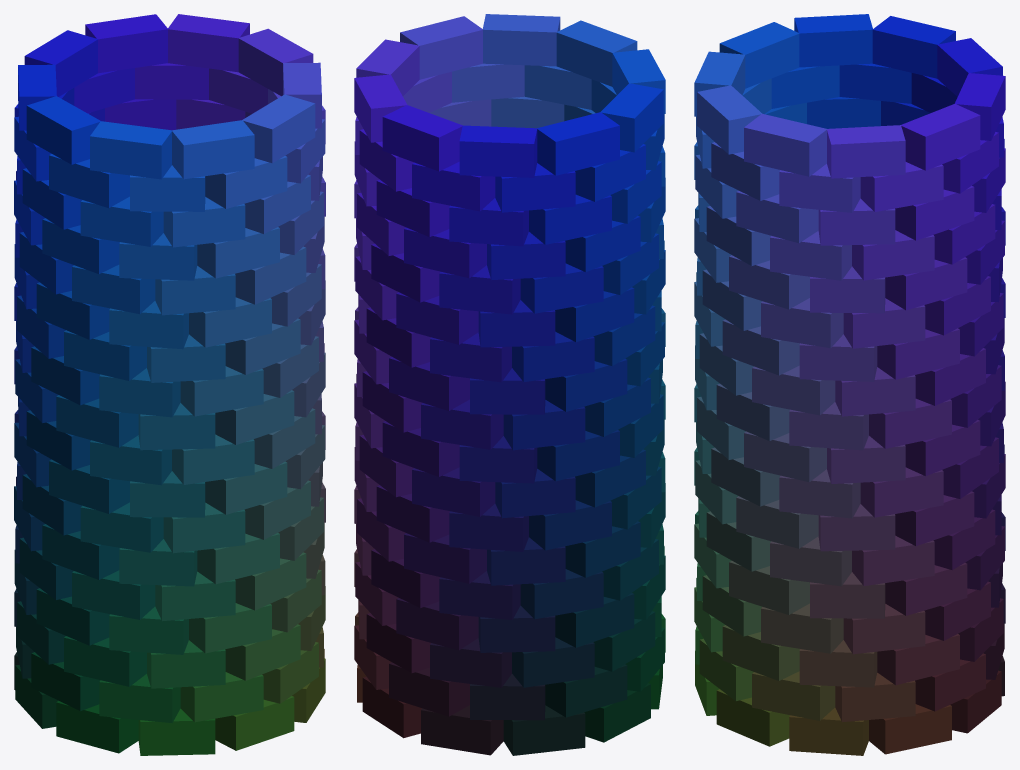
Rendered from vertex_animation_textures1_mesh.fbx.
3 renders of one model, left to right at view 1: azimuth 30°, elevation 25°; view 2: azimuth 150°, elevation 25°; view 3: azimuth 270°, elevation 25°, orthographic.
Parts seen in each view (by area): view 1: MESH; view 2: MESH; view 3: MESH.
Part boxes in pixels (<box>): MESH: <box>14,14,325,755</box>; MESH: <box>354,14,665,755</box>; MESH: <box>694,14,1005,755</box>.
Bounding box in the file's own units: 831 × 1800 × 831.
